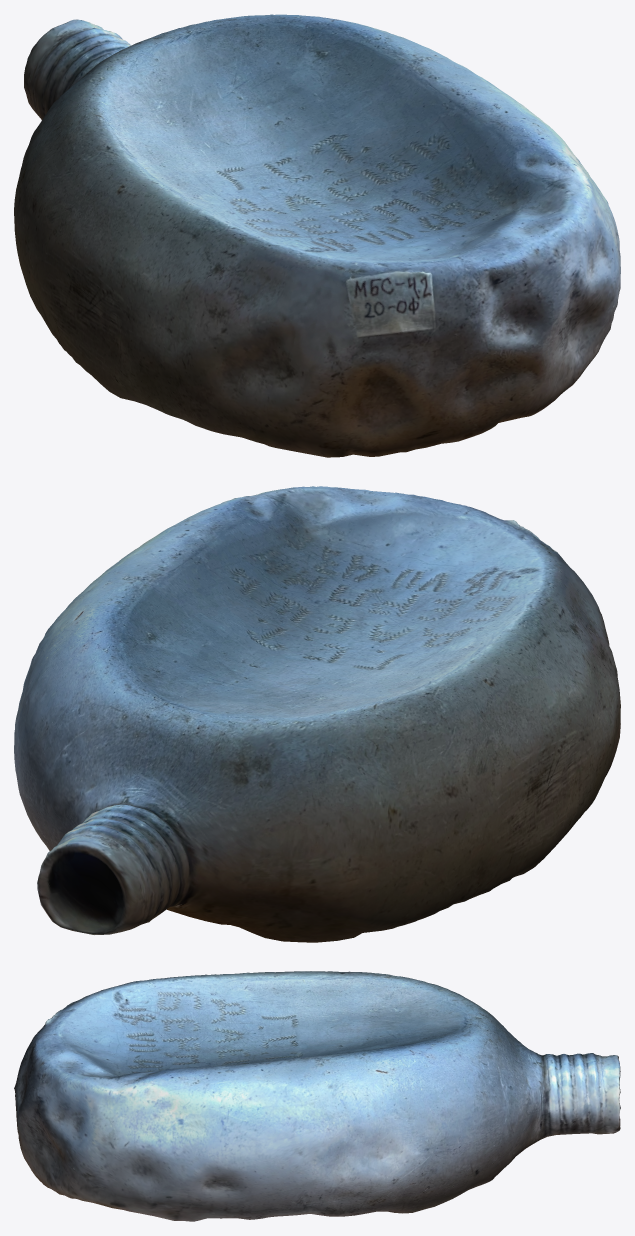
File: flgb.glb
The picture shows the model from 3 angles, top to bottom: view 1: azimuth 30°, elevation 25°; view 2: azimuth 150°, elevation 25°; view 3: azimuth 270°, elevation 25°; orthographic projection. The views are drawn at different scales.
Visible parts, largest first — view 1: flgb.usdz; view 2: flgb.usdz; view 3: flgb.usdz.
Boxes of the visible parts, x1=… form: flgb.usdz: x1=14, y1=14, x2=620, y2=457; flgb.usdz: x1=14, y1=486, x2=620, y2=942; flgb.usdz: x1=14, y1=971, x2=620, y2=1221.
Bounding box in the file's own units: 0.1191 × 0.0588 × 0.1846.
Materials: 1 (1 with a texture image).
